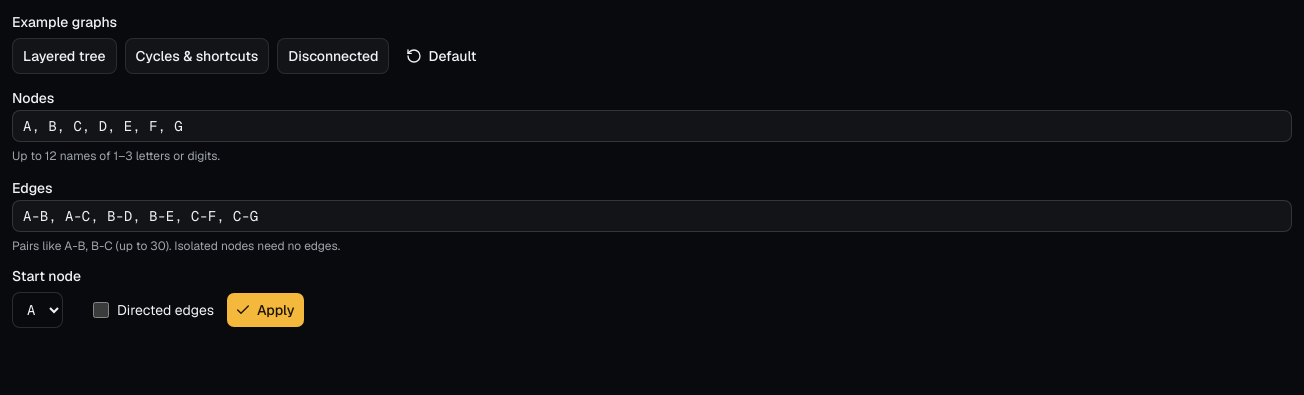
Test: GraphInput › reports unknown nodes in edges
Step 1. Replace the text in the field labelled "Edges" with "A-Z" → (652, 216), box [12,200,1292,232]
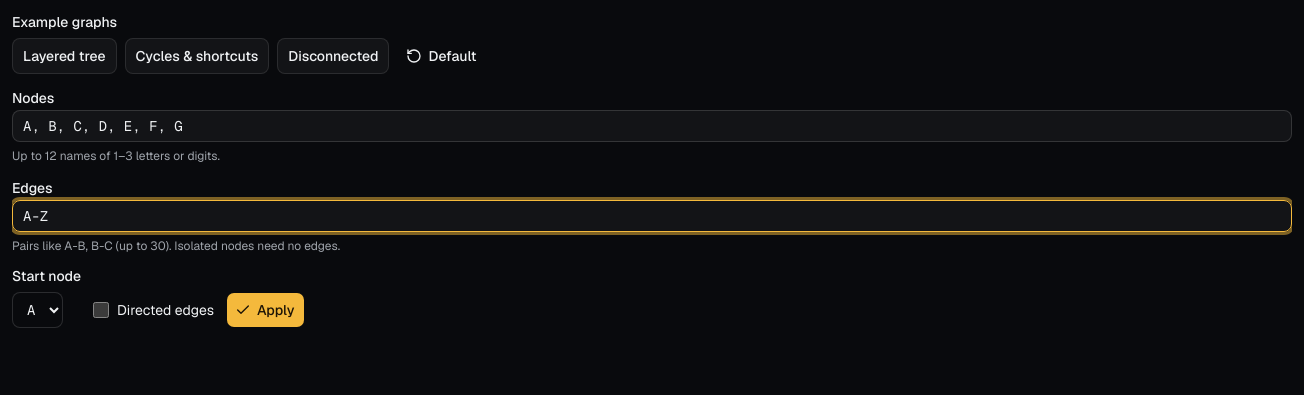
Step 2. Click the button "Apply" → (266, 310), box [226,292,305,328]
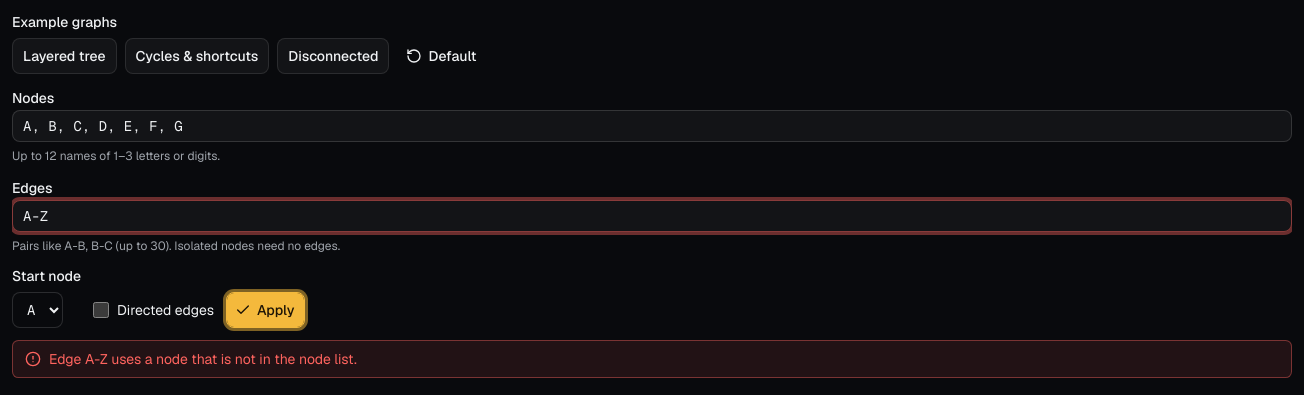
Now the list item "Edge A-Z uses a node that is not in the node list." is shown, box [49,349,357,369]
